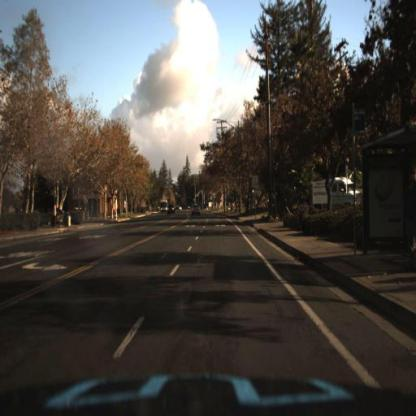car: (190, 204, 201, 220), (169, 205, 178, 215)
truck: (316, 178, 362, 214), (161, 202, 169, 214)
